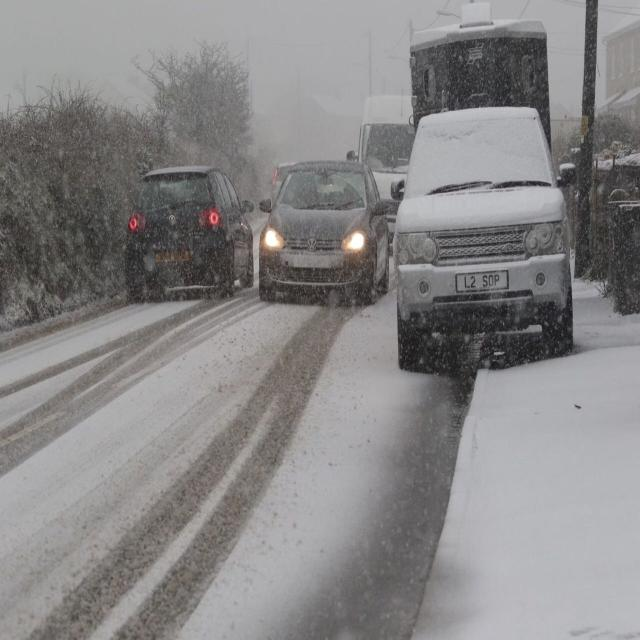car: (398, 114, 574, 360), (256, 157, 392, 307), (122, 165, 255, 302), (359, 92, 412, 264)
